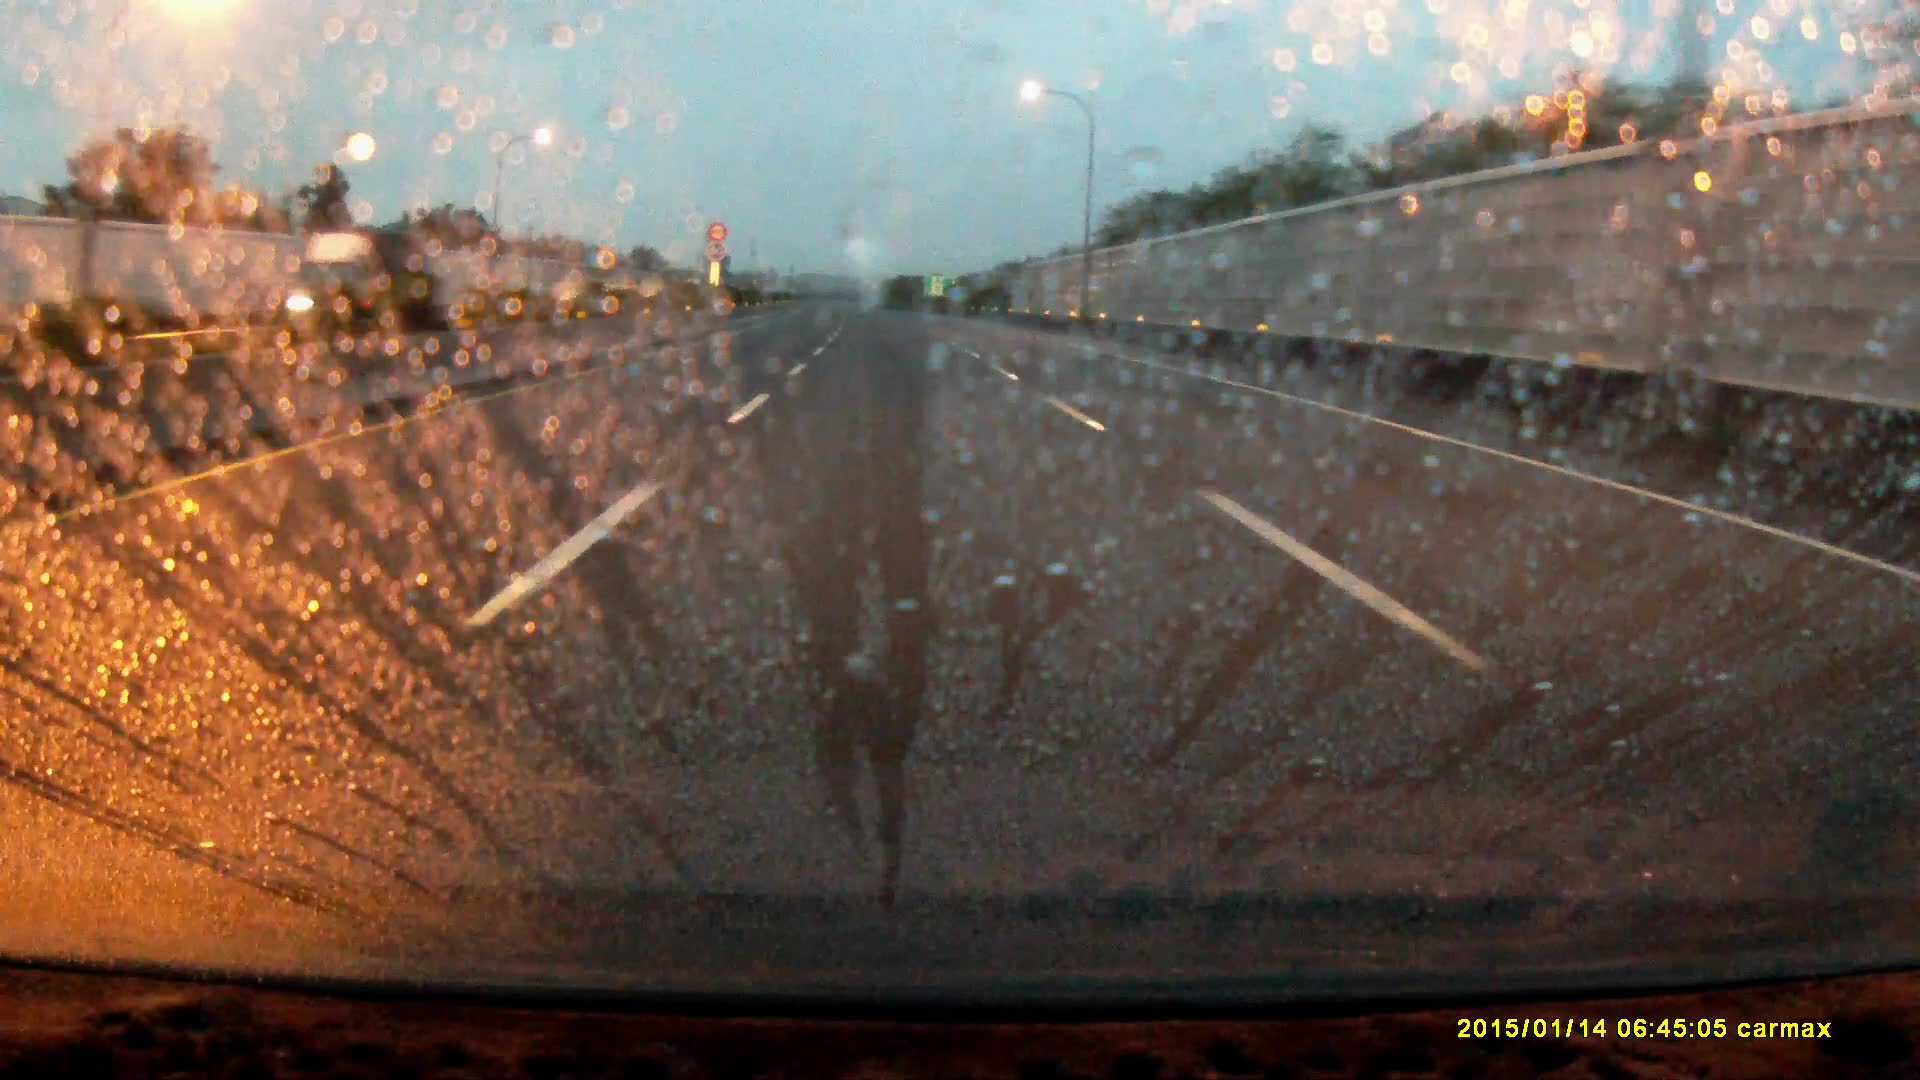vehicle: (297, 224, 425, 323)
